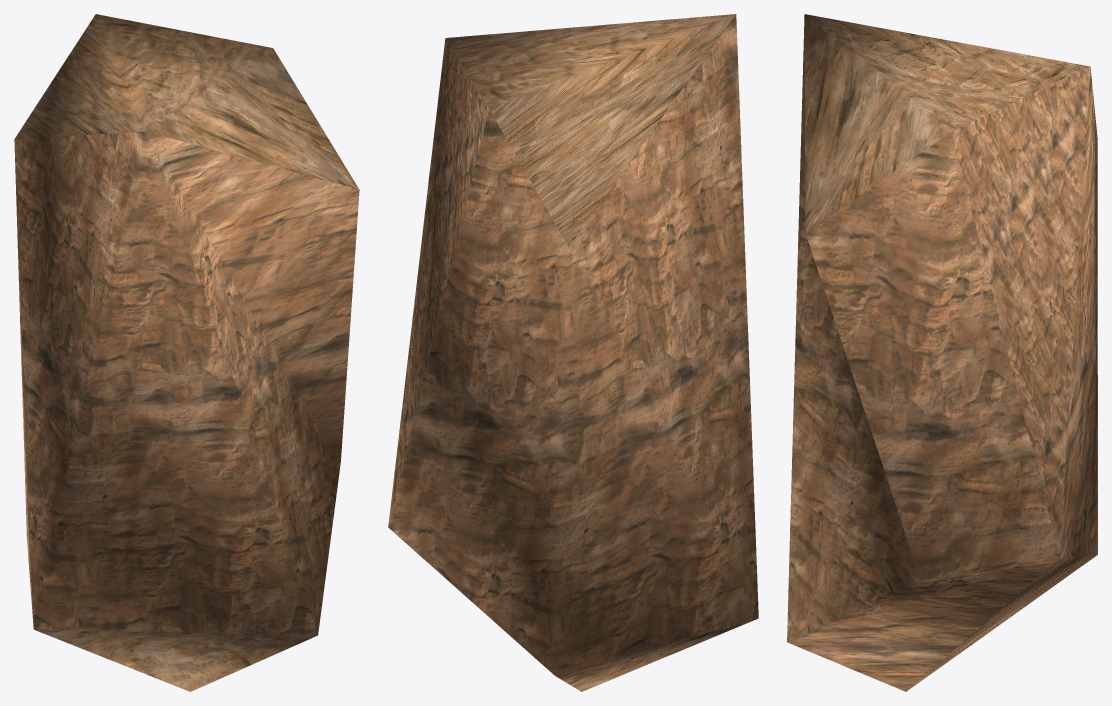
File: rock_tatt_bensmesa_boulder_a3_l4.fbx
3 renders of one model, left to right at view 1: azimuth 30°, elevation 25°; view 2: azimuth 150°, elevation 25°; view 3: azimuth 270°, elevation 25°, orthographic. The views are drawn at different scales.
Visible parts, largest first — view 1: mesh_node; view 2: mesh_node; view 3: mesh_node.
Boxes of the visible parts, <box> form: mesh_node: <box>14,14,359,691</box>; mesh_node: <box>388,14,758,691</box>; mesh_node: <box>787,14,1097,691</box>.
Bounding box in the file's own units: 2.2 × 4.09 × 1.83.
